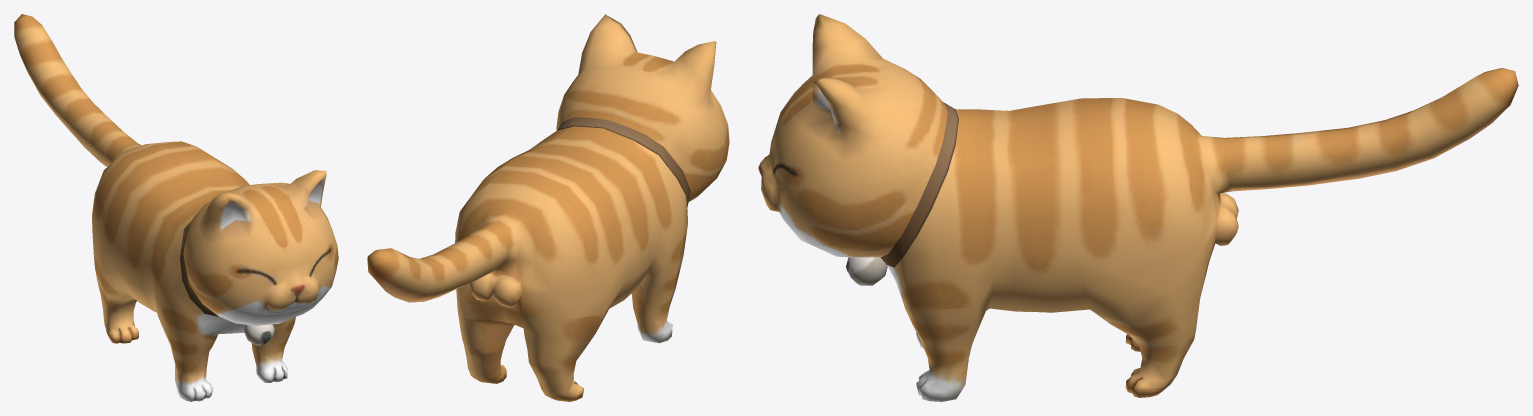
File: JYCmaoL_5_0_L.FBX
3 views of the same model, side by side, from view 1: azimuth 30°, elevation 25°; view 2: azimuth 150°, elevation 25°; view 3: azimuth 270°, elevation 25° (orthographic). The views are drawn at different scales.
Parts seen in each view (by area): view 1: JYCmaoL_1_0_L_0; view 2: JYCmaoL_1_0_L_0; view 3: JYCmaoL_1_0_L_0.
Part boxes in pixels (<box>): JYCmaoL_1_0_L_0: <box>14,14,338,401</box>; JYCmaoL_1_0_L_0: <box>367,14,729,401</box>; JYCmaoL_1_0_L_0: <box>758,14,1518,401</box>.
Size of the model in its own units: 41.65 by 70.44 by 151.
